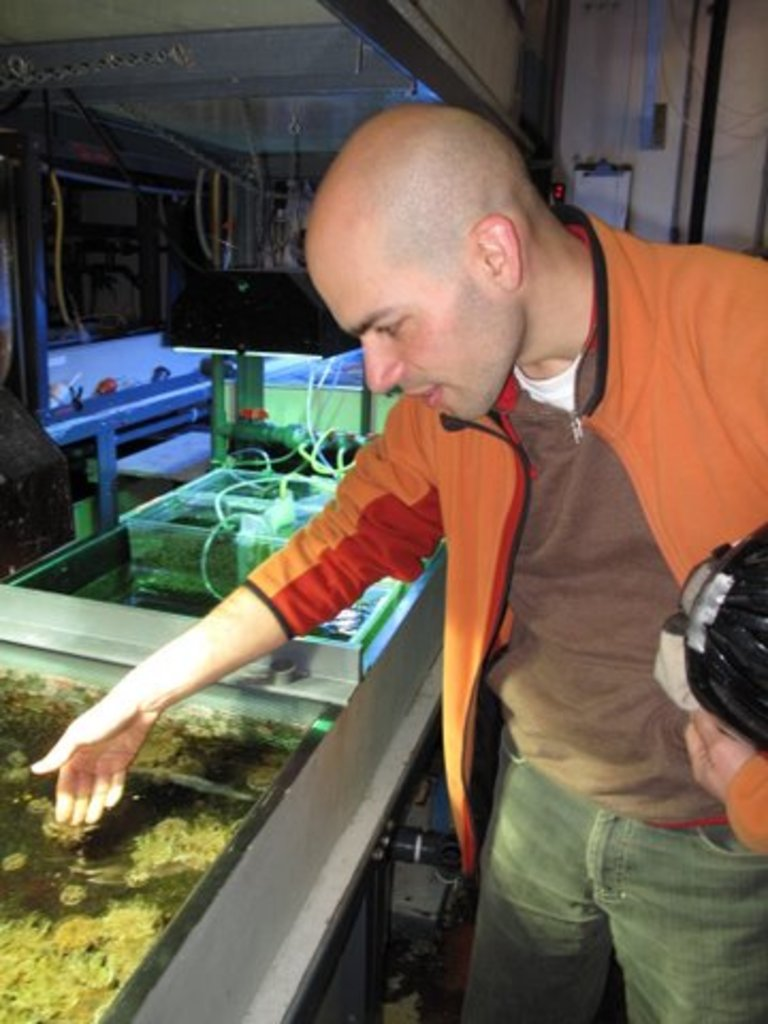Human_hand: (26, 694, 157, 829)
